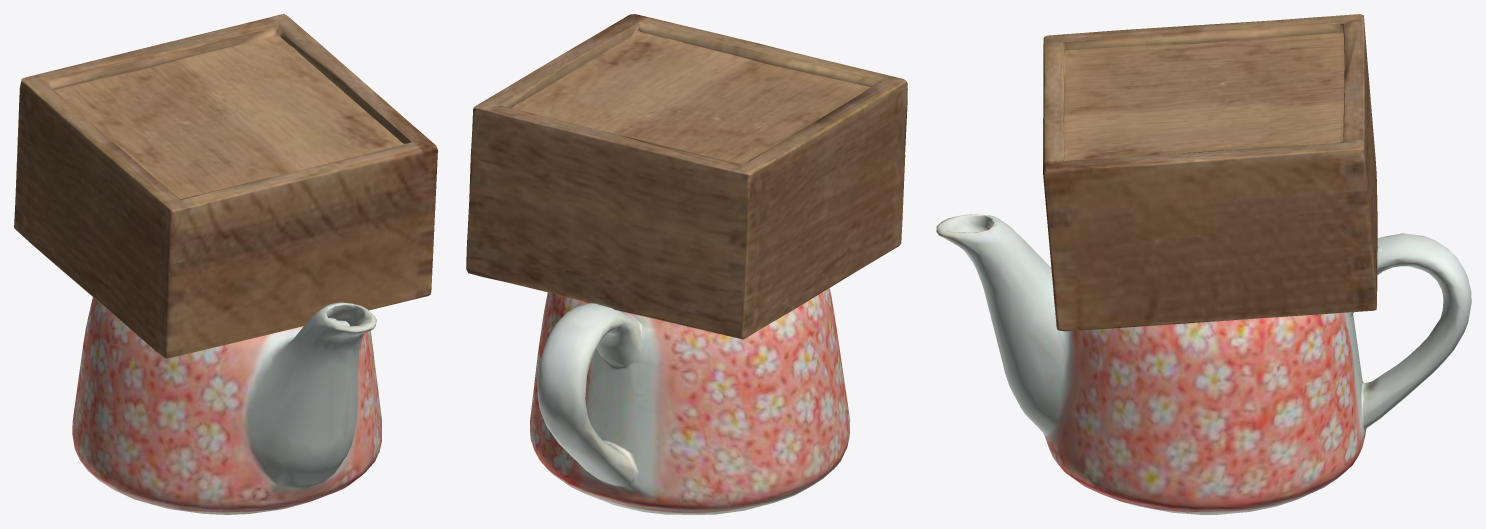
The model's file is 16374_PS01_S01_NV01_RQP2_3.0.glb.
The picture shows the model from 3 angles, left to right: view 1: azimuth 30°, elevation 25°; view 2: azimuth 150°, elevation 25°; view 3: azimuth 270°, elevation 25°; orthographic projection. The views are drawn at different scales.
Visible parts, largest first — view 1: ProcessedMeshNode; view 2: ProcessedMeshNode; view 3: ProcessedMeshNode.
Boxes of the visible parts, <box> form: ProcessedMeshNode: <box>14,14,437,514</box>; ProcessedMeshNode: <box>466,14,907,514</box>; ProcessedMeshNode: <box>936,14,1471,514</box>.
Size of the model in its own units: 0.1081 by 0.1404 by 0.1785.
Materials: 1 (1 with a texture image).
